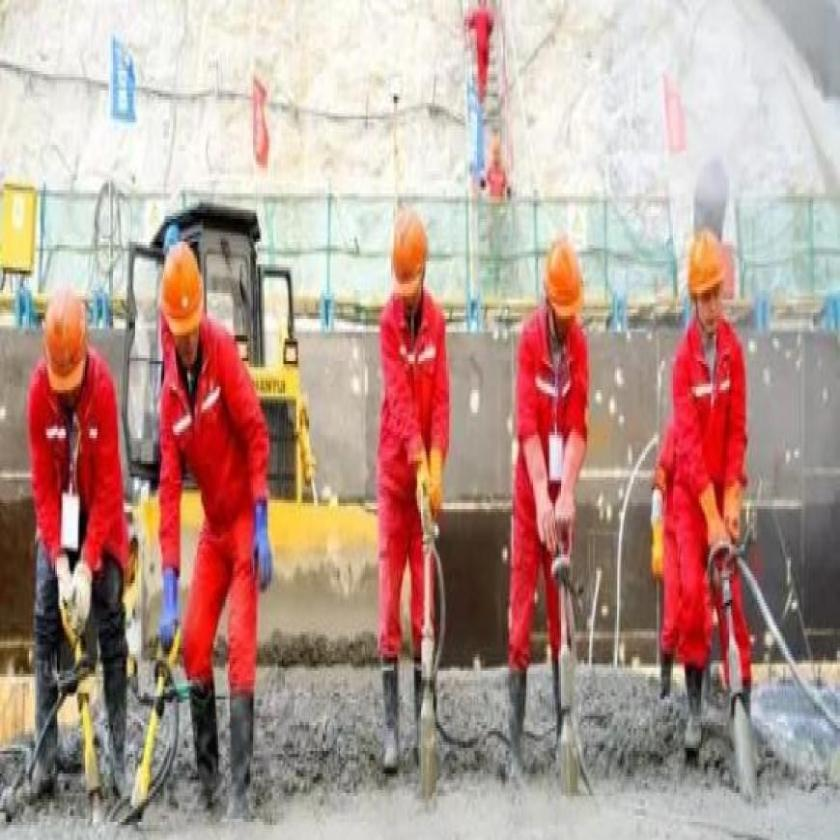Con_casco: (683, 229, 740, 349), (164, 235, 206, 374), (393, 217, 432, 316), (546, 238, 584, 336)
